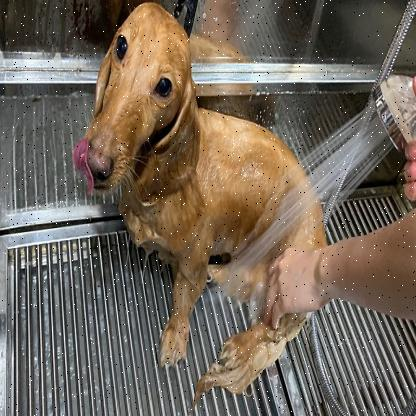dog: (74, 6, 252, 335)
